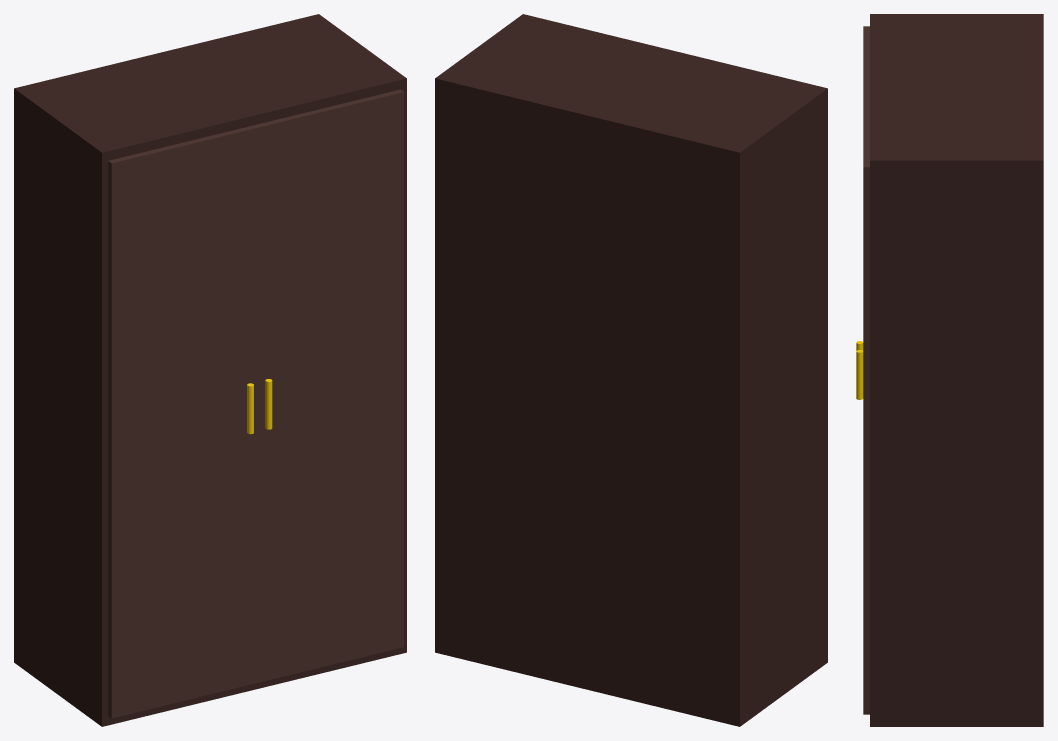
The model's file is wardrobe.glb.
3 views of the same model, side by side, from view 1: azimuth 30°, elevation 25°; view 2: azimuth 150°, elevation 25°; view 3: azimuth 270°, elevation 25° (orthographic).
Parts seen in each view (by area): view 1: Wardrobe; view 2: Wardrobe; view 3: Wardrobe.
Boxes of the visible parts, x1=… form: Wardrobe: x1=14, y1=14, x2=406, y2=726; Wardrobe: x1=435, y1=14, x2=827, y2=726; Wardrobe: x1=856, y1=14, x2=1043, y2=726.
Bounding box in the file's own units: 1 × 1.8 × 0.54.
